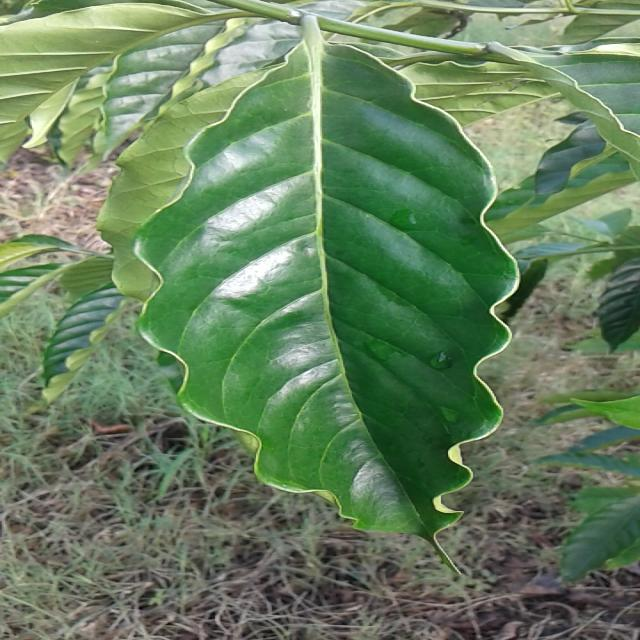Sanas: (96, 44, 548, 542)
